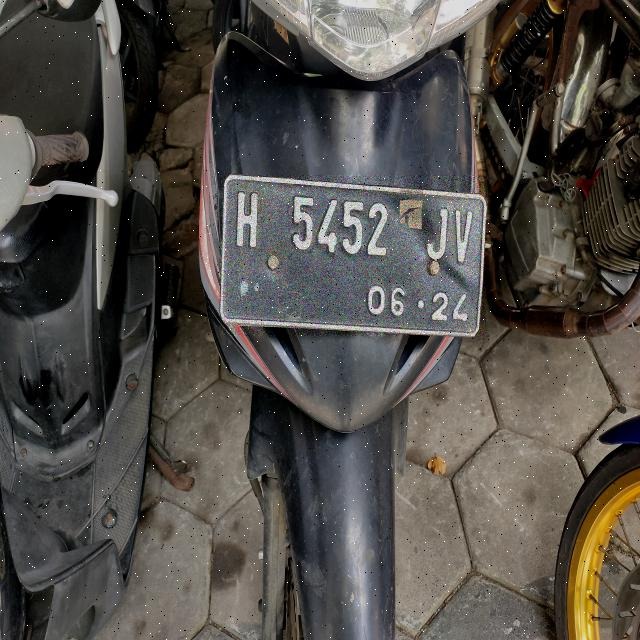plate: (221, 176, 485, 335)
